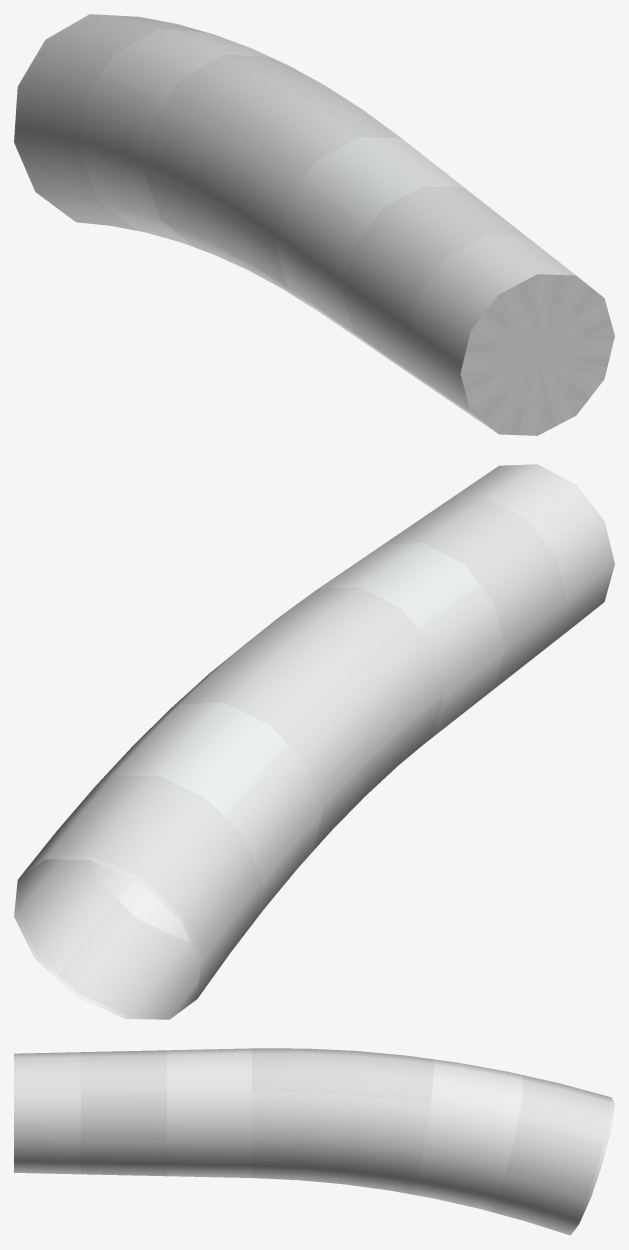
The model's file is luminairearm_caltrans6ftstraightdouble_c5.obj.
3 renders of one model, top to bottom at view 1: azimuth 30°, elevation 25°; view 2: azimuth 150°, elevation 25°; view 3: azimuth 270°, elevation 25°, orthographic. The views are drawn at different scales.
Parts seen in each view (by area): view 1: luminairearm_caltrans6ftstraightdouble_c5; view 2: luminairearm_caltrans6ftstraightdouble_c5; view 3: luminairearm_caltrans6ftstraightdouble_c5.
Part boxes in pixels (x1=…): luminairearm_caltrans6ftstraightdouble_c5: x1=14, y1=14, x2=614, y2=435; luminairearm_caltrans6ftstraightdouble_c5: x1=14, y1=464, x2=614, y2=1019; luminairearm_caltrans6ftstraightdouble_c5: x1=14, y1=1048, x2=614, y2=1235.
Size of the model in its own units: 0.2119 by 0.2812 by 0.8785.
